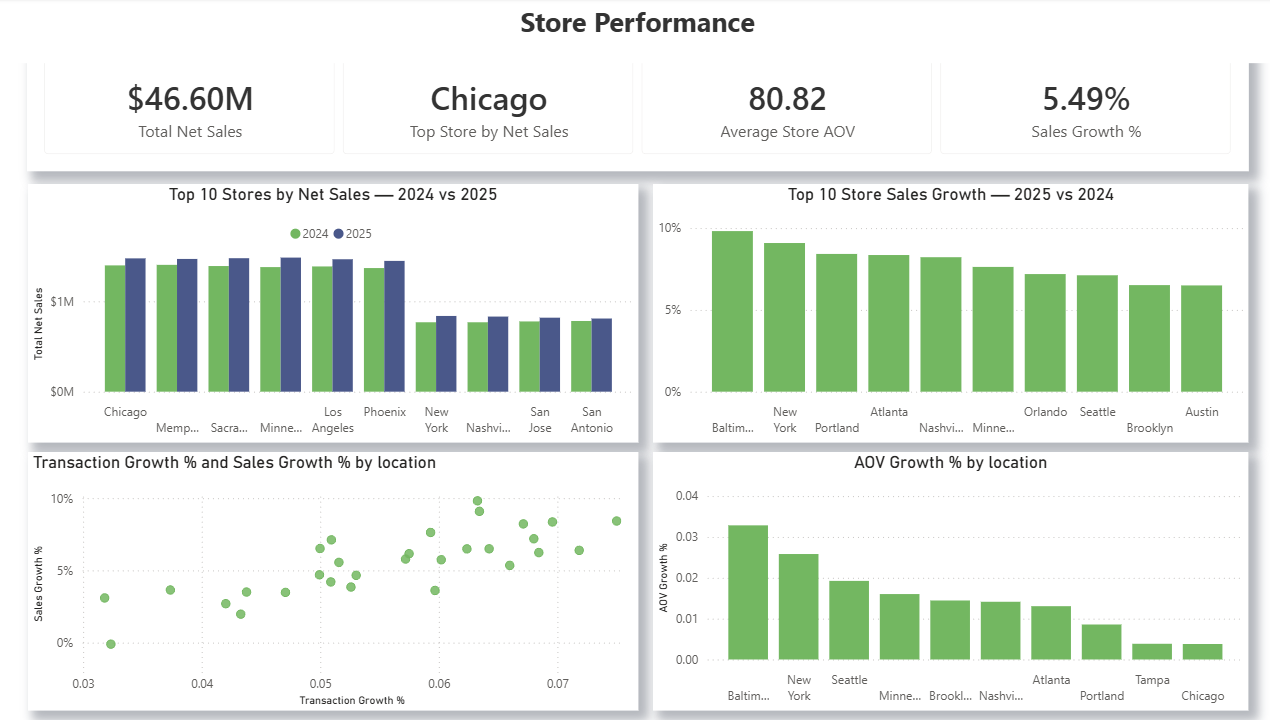

The dashboard page shown, as its layout file describes it:
{"tool":"powerbi","page":{"name":"Store Performance","canvas":[1280,720],"ordinal":3},"visuals":[{"type":"cardVisual","fields":{"Data":["Measures Table.Total Net Sales","Measures Table.Top Store by Net Sales","Measures Table.Average Store AOV","Measures Table.Sales Growth %"]},"box":[30.4,43.8,1219.1,129.1],"z":0},{"type":"textbox","box":[0,0,1280,64.5],"z":1},{"type":"clusteredColumnChart","title":"Top 10 Stores by Net Sales — 2024 vs 2025","fields":{"Category":["dim_stores.location"],"Series":["Calendar.year"],"Y":["Measures Table.Total Net Sales"]},"box":[31.7,185.1,608.9,258.2],"z":2},{"type":"clusteredColumnChart","title":"Top 10 Store Sales Growth — 2025 vs 2024","fields":{"Category":["dim_stores.location"],"Y":["Measures Table.Sales Growth %"]},"box":[655.2,185.1,594.3,258.2],"z":3},{"type":"scatterChart","fields":{"Category":["dim_stores.location"],"X":["Measures Table.Transaction Growth %"],"Y":["Measures Table.Sales Growth %"]},"box":[32,453,609,258],"z":4},{"type":"clusteredColumnChart","fields":{"Category":["dim_stores.location"],"Y":["Measures Table.AOV Growth %"]},"box":[655,453,594,258],"z":5}]}

Visuals, with their boxes in screenshot pixels (x1, y1, x2, y2), scaled from the page's 1280x720 canvas onto the 1270x720 screenshot:
cardVisual - Measures Table.Total Net Sales x Measures Table.Top Store by Net Sales: Rect(30, 44, 1240, 173)
textbox: Rect(0, 0, 1269, 64)
"Top 10 Stores by Net Sales — 2024 vs 2025" clusteredColumnChart: Rect(31, 185, 636, 443)
"Top 10 Store Sales Growth — 2025 vs 2024" clusteredColumnChart: Rect(650, 185, 1240, 443)
scatterChart - dim_stores.location x Measures Table.Transaction Growth %: Rect(32, 453, 636, 711)
clusteredColumnChart - dim_stores.location x Measures Table.AOV Growth %: Rect(650, 453, 1239, 711)
